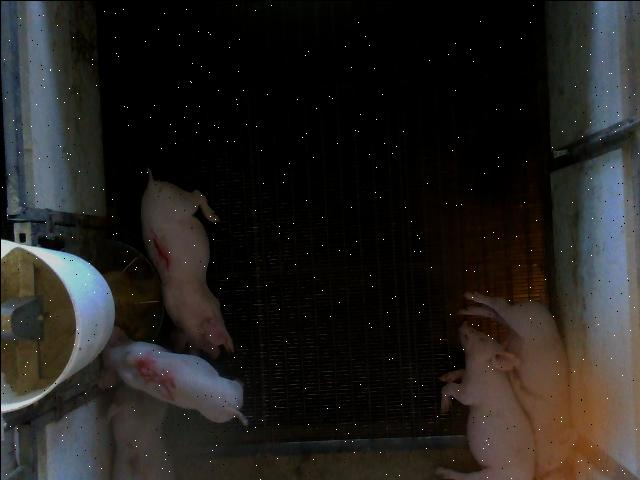pig-1: (140, 168, 232, 357)
pig-3: (108, 382, 174, 478)
pig-5: (99, 327, 246, 423)
